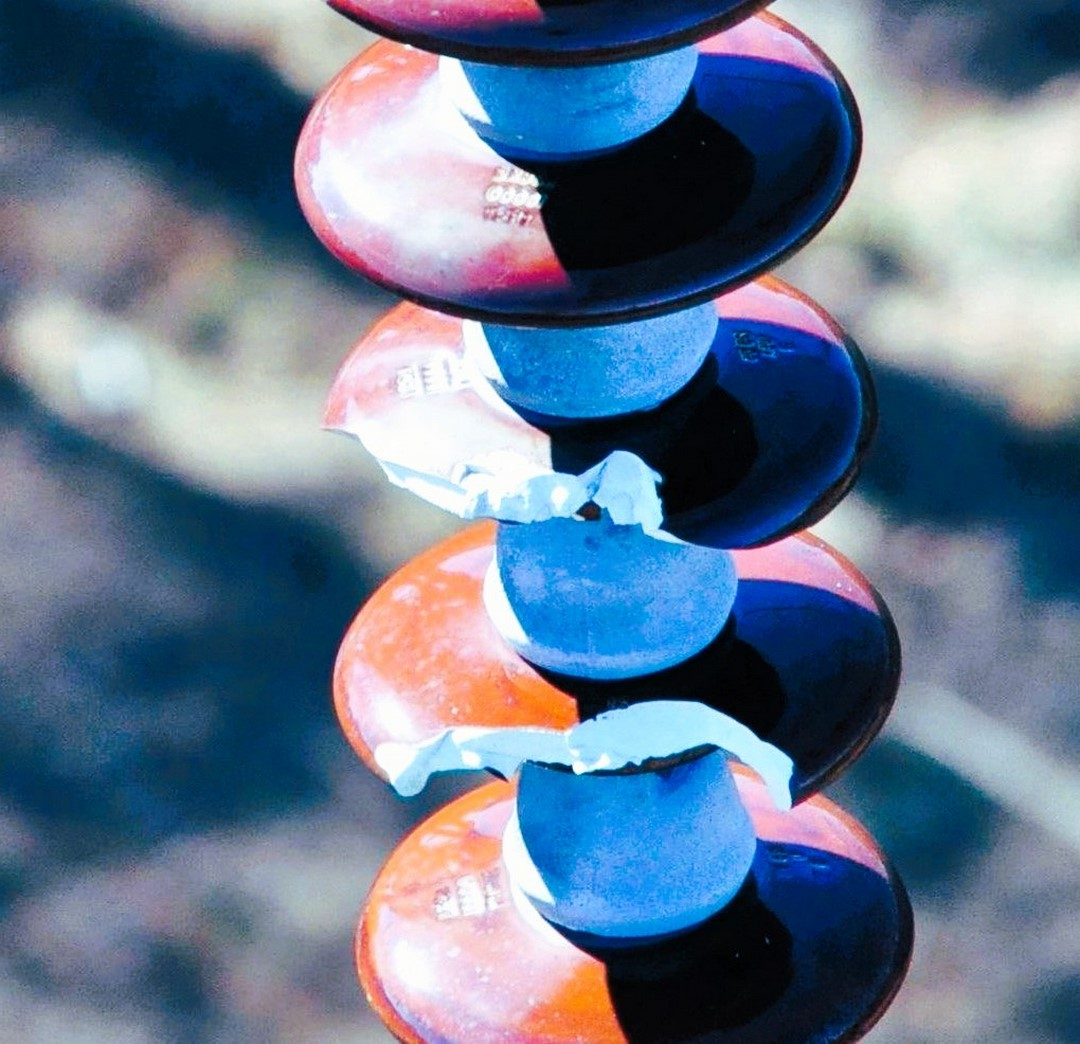insulator breakage: (312, 266, 878, 567), (329, 588, 902, 825)
